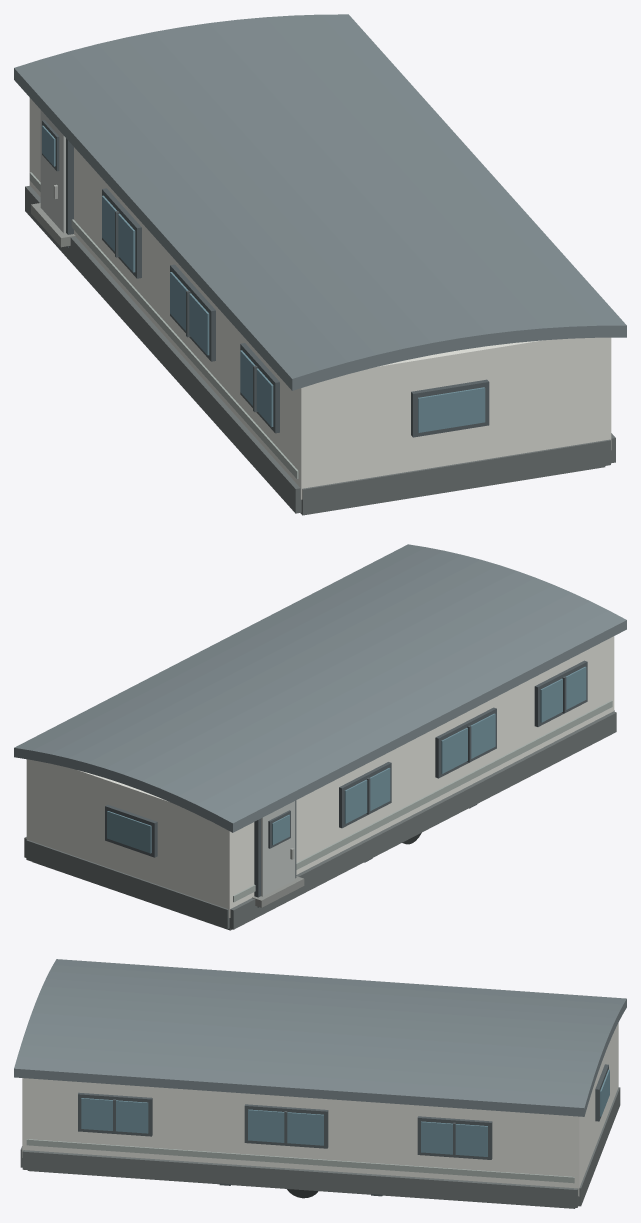
3 views of the same model, one above another, from view 1: azimuth 30°, elevation 25°; view 2: azimuth 150°, elevation 25°; view 3: azimuth 270°, elevation 25° (orthographic). The views are drawn at different scales.
Parts seen in each view (by area): view 1: shallow_crowned_roof, main_caravan_body, lower_end_skirt_negative, lower_side_skirt_positive, side_stripe_positive, rear_end_window_glass, entrance_door_panel, positive_side_window_2_glass, positive_side_window_3_glass, positive_side_window_1_glass, rear_end_window_frame, positive_side_window_2_frame (+3 smaller); view 2: shallow_crowned_roof, main_caravan_body, lower_side_skirt_positive, lower_end_skirt_positive, side_stripe_positive, entrance_door_panel, positive_side_window_2_glass, positive_side_window_3_glass, positive_side_window_1_glass, front_end_window_glass, positive_side_window_2_frame, positive_side_window_1_frame (+4 smaller); view 3: shallow_crowned_roof, main_caravan_body, lower_side_skirt_negative, side_stripe_negative, negative_side_window_2_glass, negative_side_window_3_glass, negative_side_window_1_glass, negative_side_window_2_frame, lower_end_skirt_positive, negative_side_window_3_frame, negative_side_window_1_frame, underframe_main.
Part boxes in pixels (left/top/right/bottom): shallow_crowned_roof: left=14, top=14, right=626, bottom=390; main_caravan_body: left=29, top=98, right=611, bottom=499; lower_end_skirt_negative: left=301, top=439, right=610, bottom=514; lower_side_skirt_positive: left=25, top=185, right=301, bottom=513; side_stripe_positive: left=29, top=172, right=298, bottom=478; rear_end_window_glass: left=418, top=387, right=485, bottom=432; entrance_door_panel: left=40, top=110, right=65, bottom=233; positive_side_window_2_glass: left=170, top=272, right=209, bottom=355; positive_side_window_3_glass: left=102, top=195, right=135, bottom=272; positive_side_window_1_glass: left=240, top=350, right=273, bottom=426; rear_end_window_frame: left=411, top=379, right=489, bottom=437; positive_side_window_2_frame: left=170, top=264, right=215, bottom=361; shallow_crowned_roof: left=14, top=544, right=626, bottom=832; main_caravan_body: left=26, top=636, right=614, bottom=917; lower_side_skirt_positive: left=229, top=711, right=616, bottom=929; lower_end_skirt_positive: left=26, top=840, right=229, bottom=929; side_stripe_positive: left=233, top=700, right=612, bottom=902; entrance_door_panel: left=261, top=801, right=295, bottom=896; positive_side_window_2_glass: left=441, top=713, right=495, bottom=773; positive_side_window_3_glass: left=344, top=768, right=390, bottom=823; positive_side_window_1_glass: left=540, top=666, right=586, bottom=722; front_end_window_glass: left=107, top=811, right=151, bottom=853; positive_side_window_2_frame: left=435, top=707, right=496, bottom=778; positive_side_window_1_frame: left=534, top=660, right=587, bottom=726; shallow_crowned_roof: left=14, top=959, right=626, bottom=1116; main_caravan_body: left=22, top=1023, right=618, bottom=1196; lower_side_skirt_negative: left=22, top=1150, right=578, bottom=1207; side_stripe_negative: left=26, top=1139, right=574, bottom=1183; negative_side_window_2_glass: left=248, top=1109, right=323, bottom=1145; negative_side_window_3_glass: left=421, top=1121, right=487, bottom=1156; negative_side_window_1_glass: left=81, top=1098, right=148, bottom=1133; negative_side_window_2_frame: left=244, top=1104, right=328, bottom=1148; lower_end_skirt_positive: left=578, top=1087, right=620, bottom=1206; negative_side_window_3_frame: left=417, top=1116, right=492, bottom=1159; negative_side_window_1_frame: left=78, top=1092, right=152, bottom=1136; underframe_main: left=27, top=1170, right=575, bottom=1208.
Bounding box in the file's own units: 6.2 × 2.5 × 10.77.
